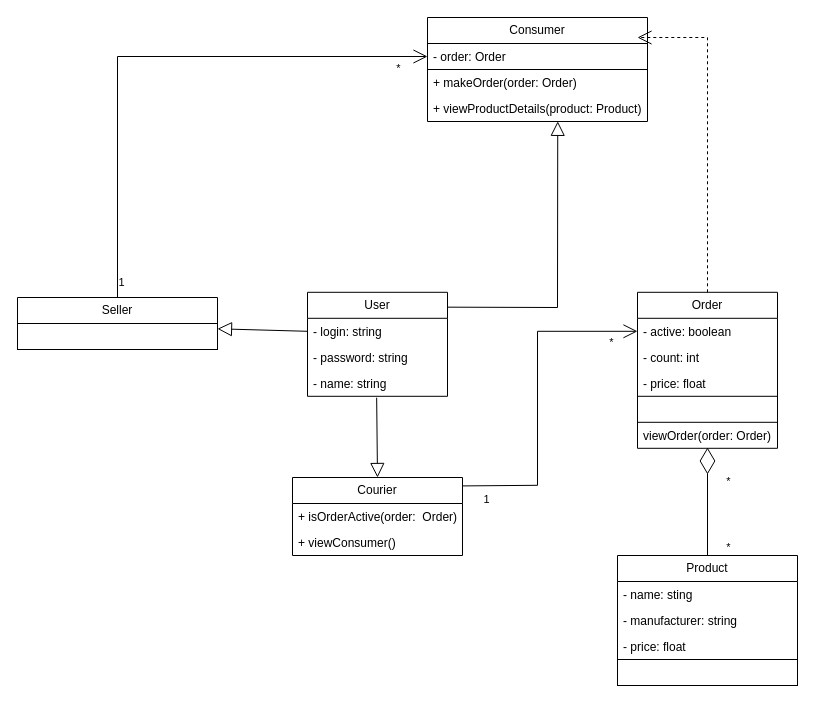
Image size: 815x706. Some labels were removed from this diagram. The shapes that lost their labels are listed below. From the top down, each one's centre as x and y in pixels, then its label:
At point (117, 336): "+ viewOrder(consumer: Consumer)".
At point (707, 408): "- product: Product".
At point (707, 672): "viewProduct(product: Product)".
